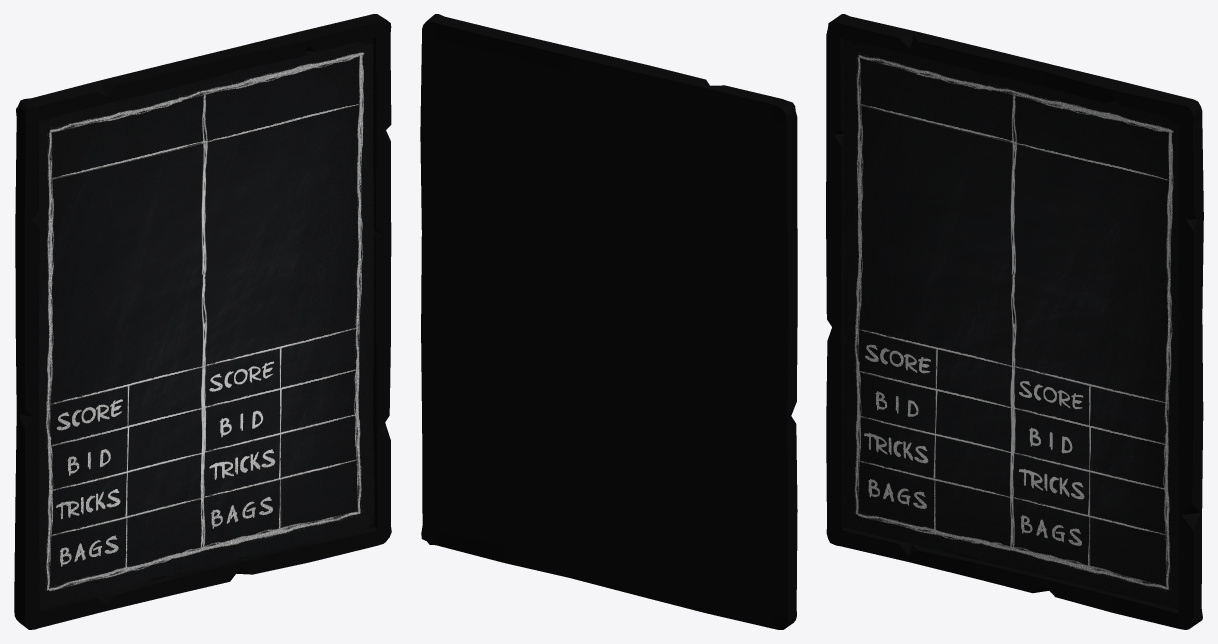
File: pointboard.fbx
The picture shows the model from 3 angles, left to right: view 1: azimuth 30°, elevation 25°; view 2: azimuth 150°, elevation 25°; view 3: azimuth 330°, elevation 25°; orthographic projection.
Visible parts, largest first — view 1: Cube.001; view 2: Cube.001; view 3: Cube.001.
Part boxes in pixels (x1,y1,x2,y2): Cube.001: (14, 14, 391, 629); Cube.001: (420, 14, 797, 629); Cube.001: (826, 14, 1203, 629).
Bounding box in the file's own units: 227 × 310 × 11.58.
2 materials, 1 textured.
